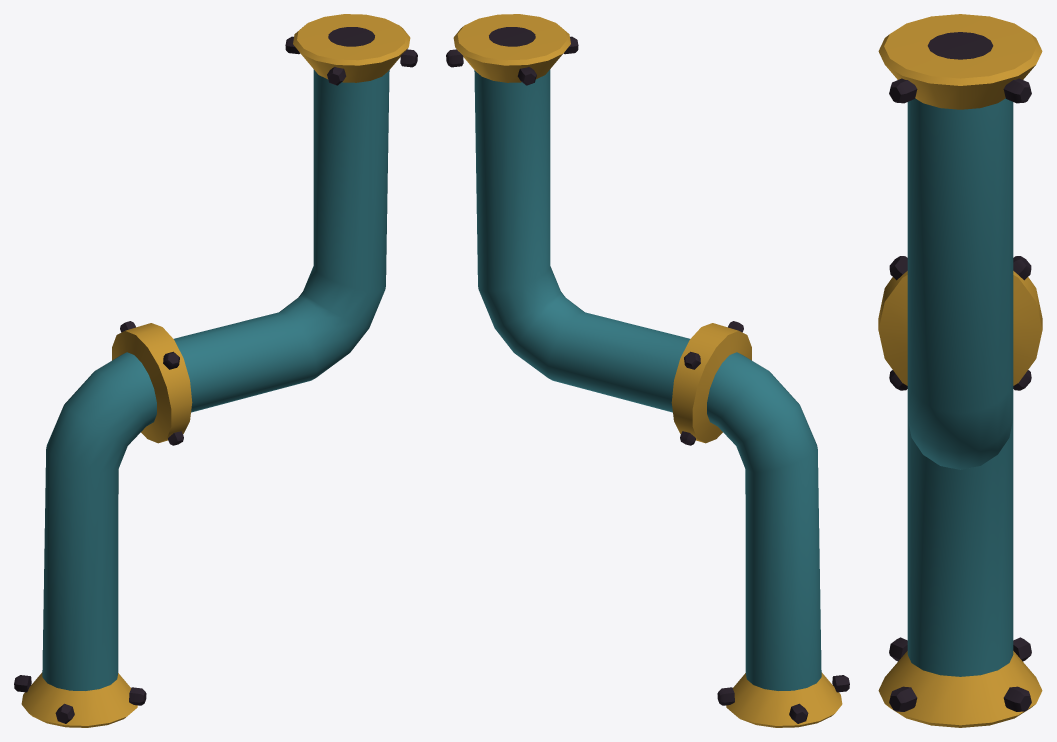
The model's file is PipeRun_27.glb.
The picture shows the model from 3 angles, left to right: view 1: azimuth 30°, elevation 25°; view 2: azimuth 150°, elevation 25°; view 3: azimuth 270°, elevation 25°; orthographic projection. The views are drawn at different scales.
Visible parts, largest first — view 1: PipeRun_27; view 2: PipeRun_27; view 3: PipeRun_27.
Boxes of the visible parts, <box> form: PipeRun_27: <box>14,14,417,727</box>; PipeRun_27: <box>446,14,849,727</box>; PipeRun_27: <box>878,14,1042,727</box>.
Size of the model in its own units: 3.91 by 6.01 by 1.07.
